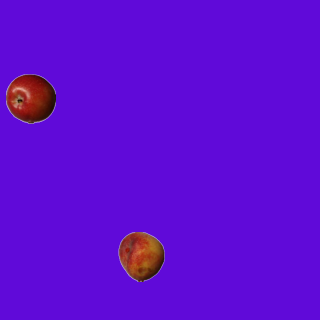Apple Braeburn: (5, 73, 55, 123)
Peach: (116, 231, 166, 281)
